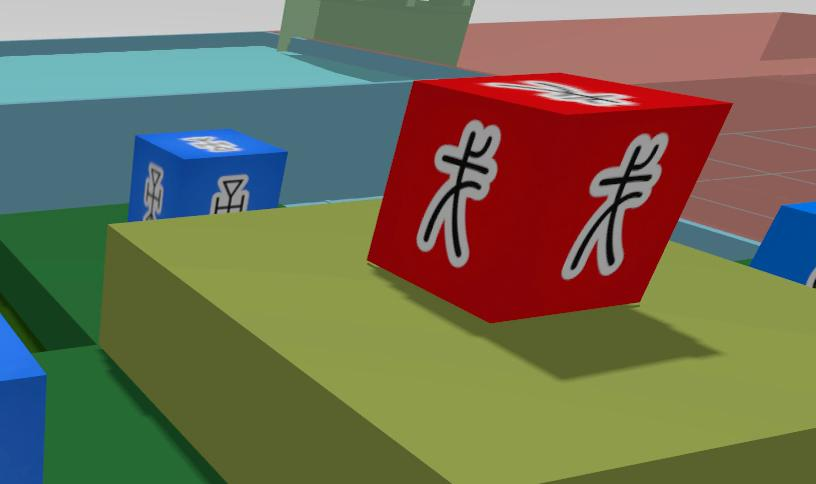KFS_FAKE: (368, 72, 729, 322), (562, 133, 668, 278), (416, 120, 500, 267), (485, 78, 635, 106)
KFS_REAL: (128, 129, 287, 220), (0, 314, 45, 484), (206, 176, 247, 213), (143, 164, 163, 219)
